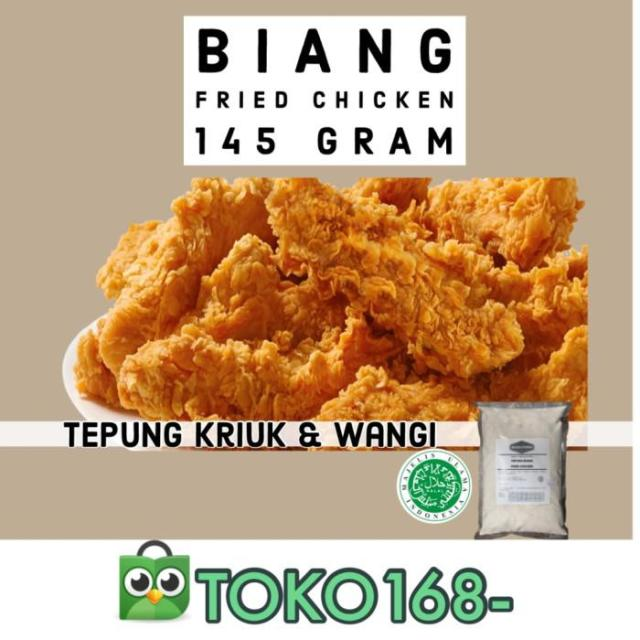Chicken -Fried Chicken-: (267, 178, 524, 372), (119, 329, 371, 417)
